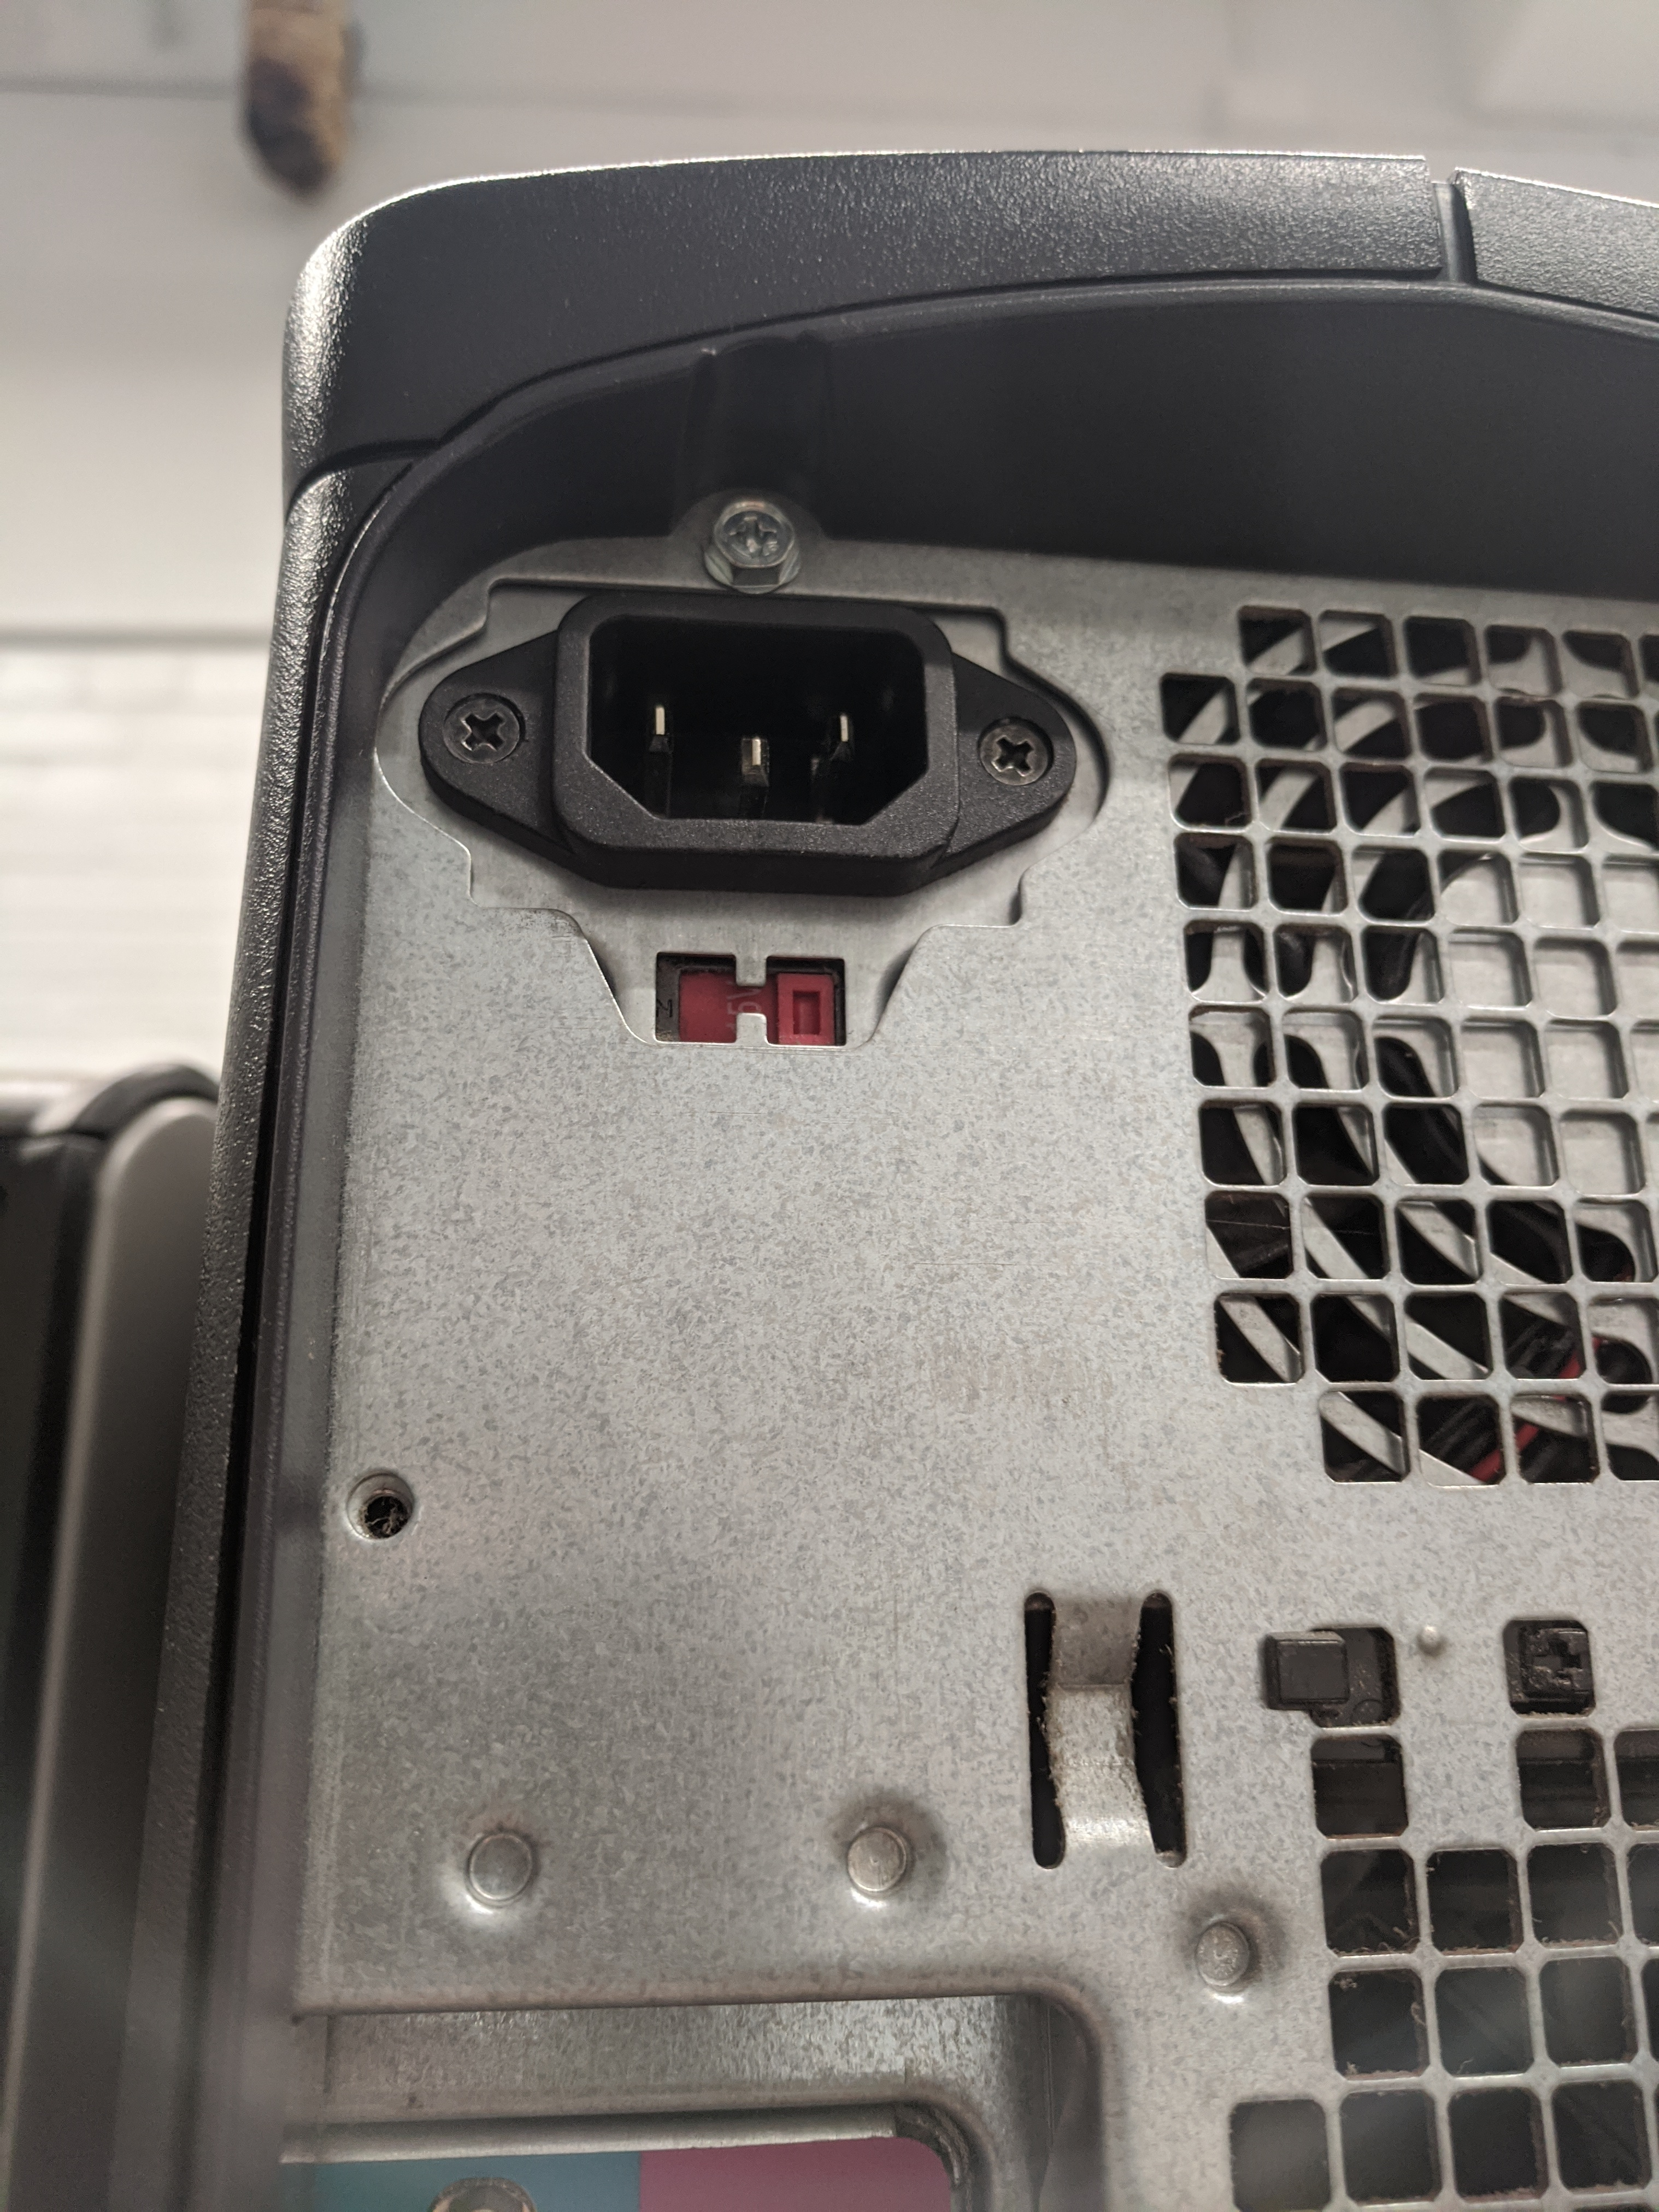cross_recessed_screw: (962, 693, 1049, 787), (702, 486, 798, 570), (434, 685, 530, 763)
